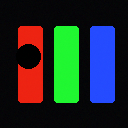2 circle: (16, 44, 40, 68)
